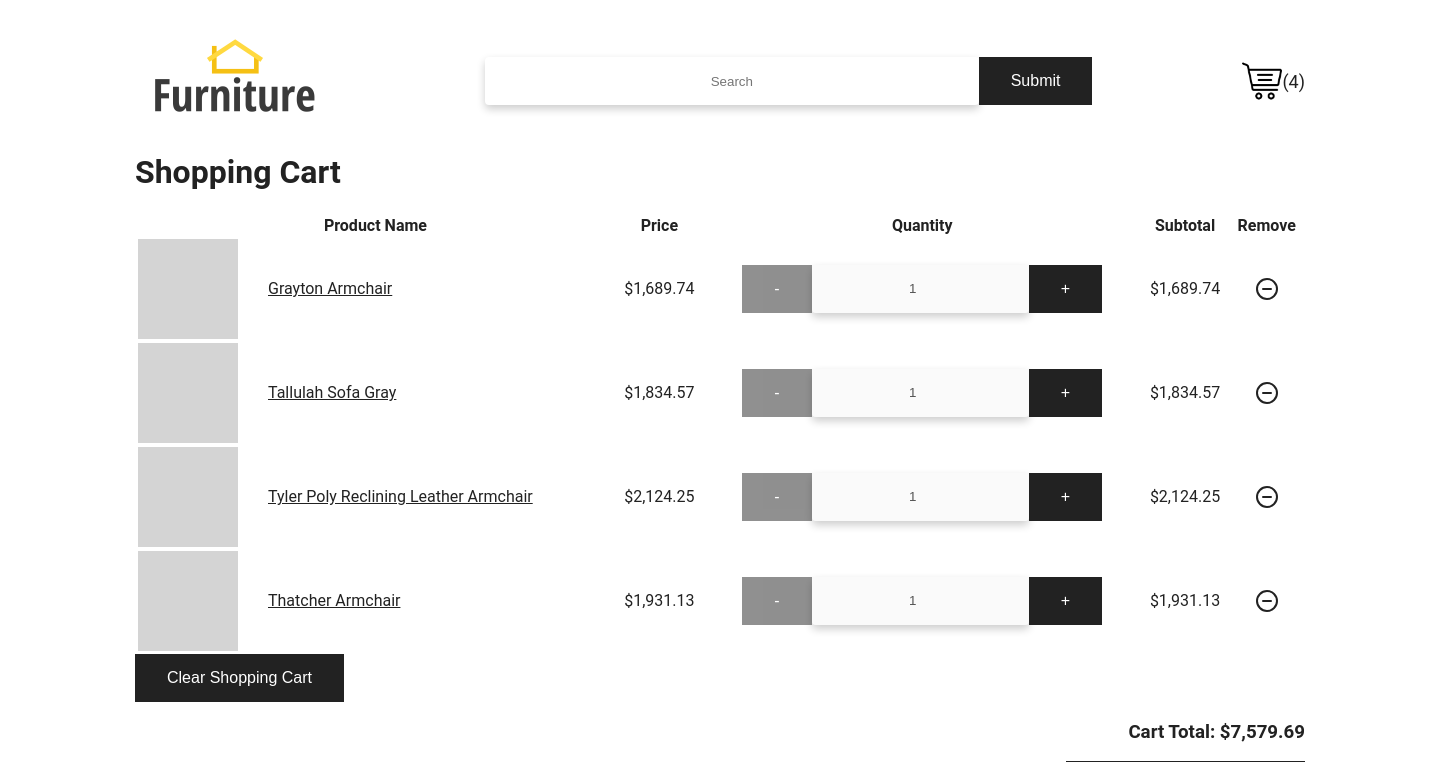
Test: Shopping Cart with initial state › should validate that a product can be removed after clicking on the remove icon
The width and height of the screenshot is (1440, 762).
expect the text "Grayton Armchair" is shown: met, box [268, 279, 392, 298]
Click the icon in the row of "Grayton Armchair".
click(1267, 289)  # box [1256, 278, 1278, 300]
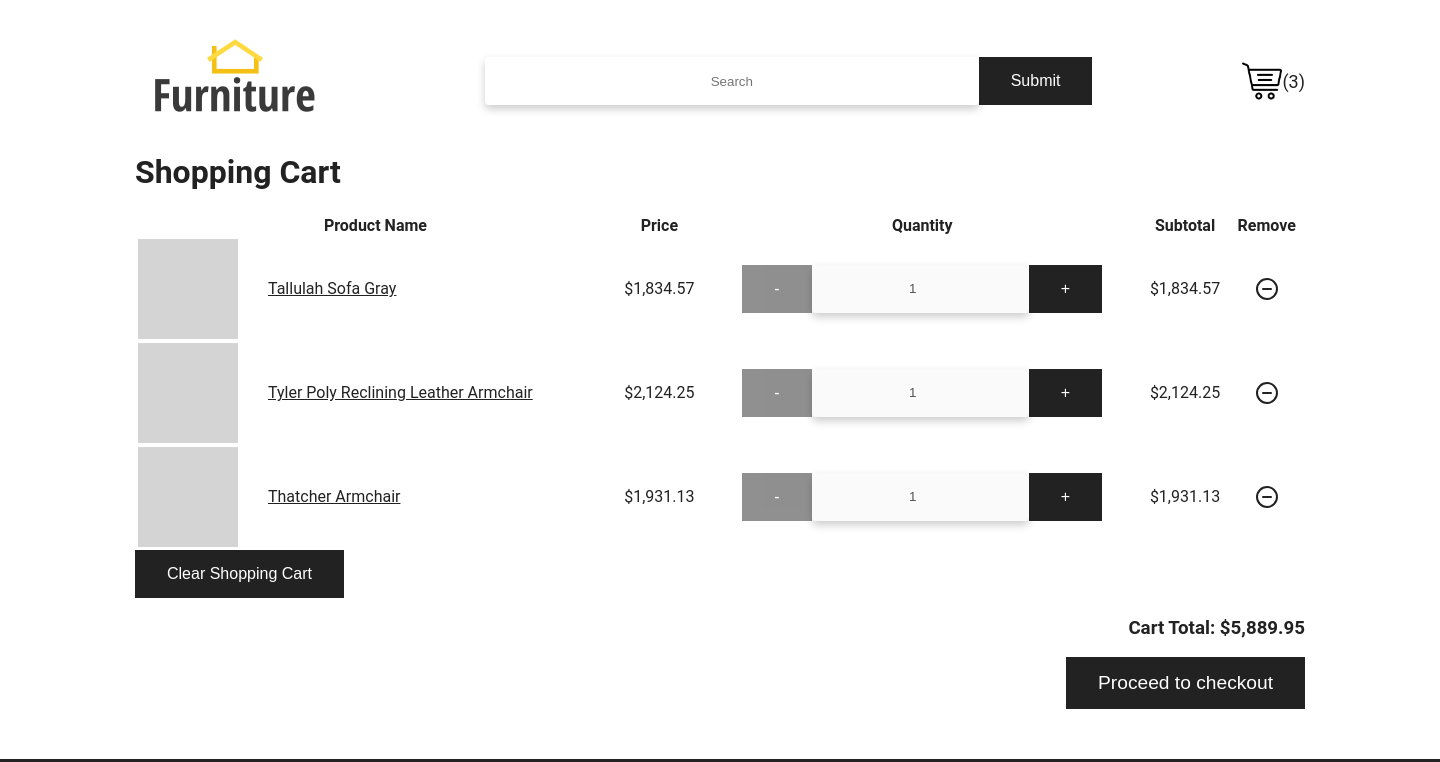
expect the link "Grayton Armchair" is gone: met
